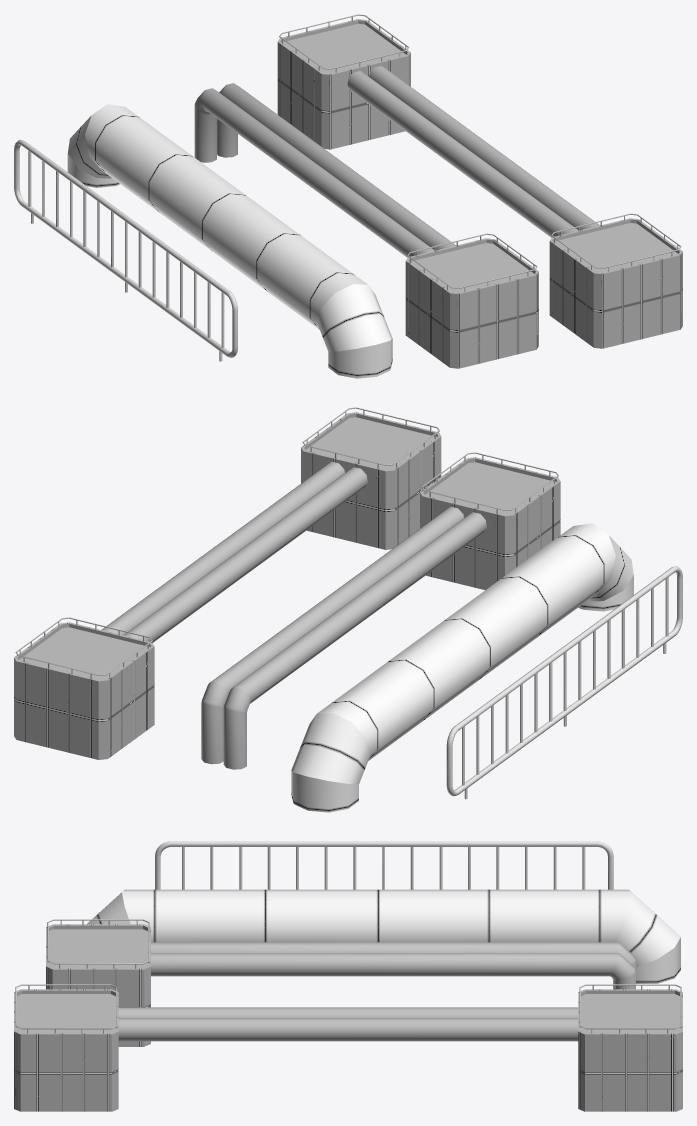
The model's file is let_3.FBX.
3 views of the same model, one above another, from view 1: azimuth 30°, elevation 25°; view 2: azimuth 150°, elevation 25°; view 3: azimuth 270°, elevation 25° (orthographic). The views are drawn at different scales.
Parts seen in each view (by area): view 1: Box010, Box009, Rectangle002, Rectangle001; view 2: Box010, Rectangle002, Box009, Rectangle001; view 3: Box010, Rectangle002, Box009, Rectangle001.
Part boxes in pixels (x1,y1,x2,y2): Box010: [277, 14, 682, 348]; Box009: [194, 83, 538, 368]; Rectangle002: [67, 104, 392, 378]; Rectangle001: [14, 139, 237, 361]; Box010: [14, 407, 441, 759]; Rectangle002: [291, 523, 633, 812]; Box009: [201, 452, 560, 769]; Rectangle001: [446, 566, 682, 799]; Box010: [14, 984, 682, 1111]; Rectangle002: [87, 889, 680, 983]; Box009: [46, 919, 635, 1046]; Rectangle001: [155, 841, 613, 889].
Size of the model in its own units: 6.82 by 1.37 by 9.92.
